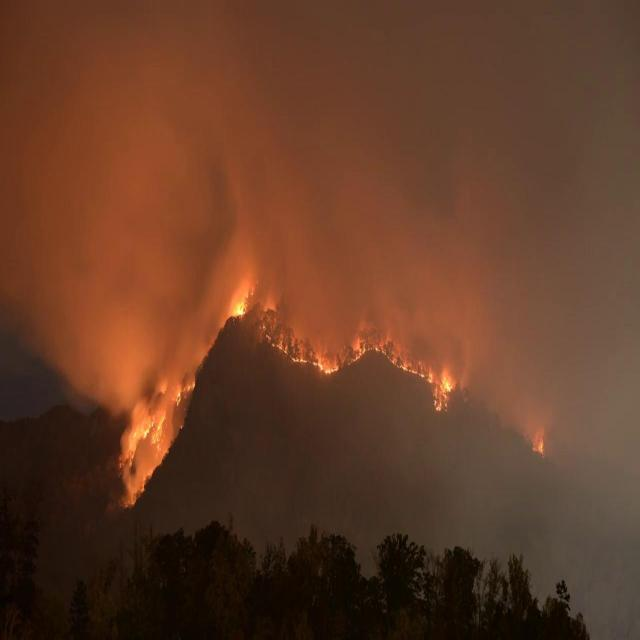Fire: (119, 401, 171, 505), (374, 342, 424, 379), (276, 345, 322, 371), (432, 369, 452, 411), (229, 288, 253, 320), (175, 378, 195, 408), (350, 343, 370, 363), (533, 429, 545, 457), (326, 362, 340, 375)
